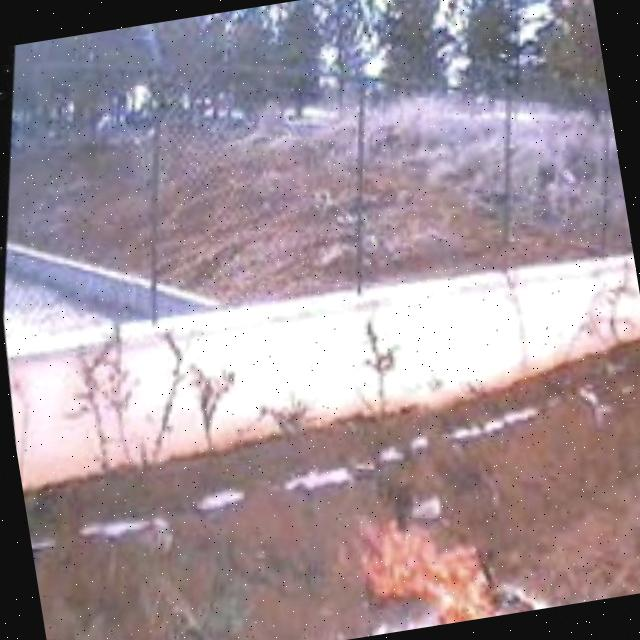fire: (325, 486, 550, 640)
